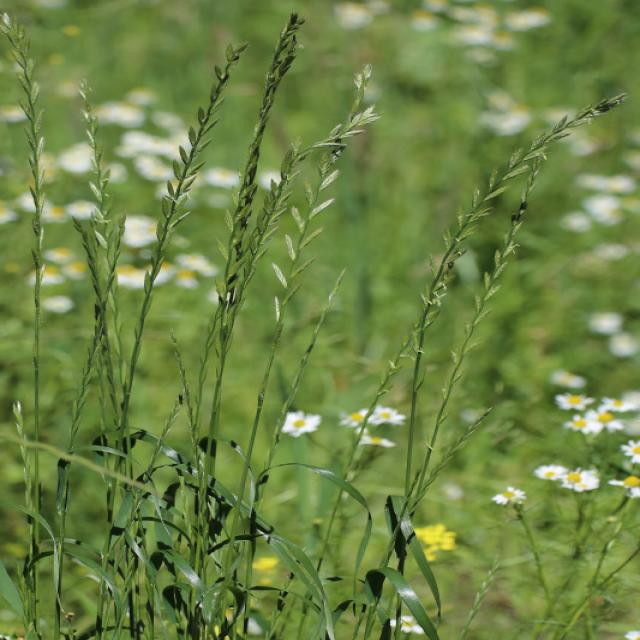Lolium: (0, 104, 612, 640), (408, 91, 615, 352), (276, 69, 370, 318), (161, 37, 247, 238), (466, 182, 538, 334), (2, 24, 46, 270), (72, 80, 115, 266)
